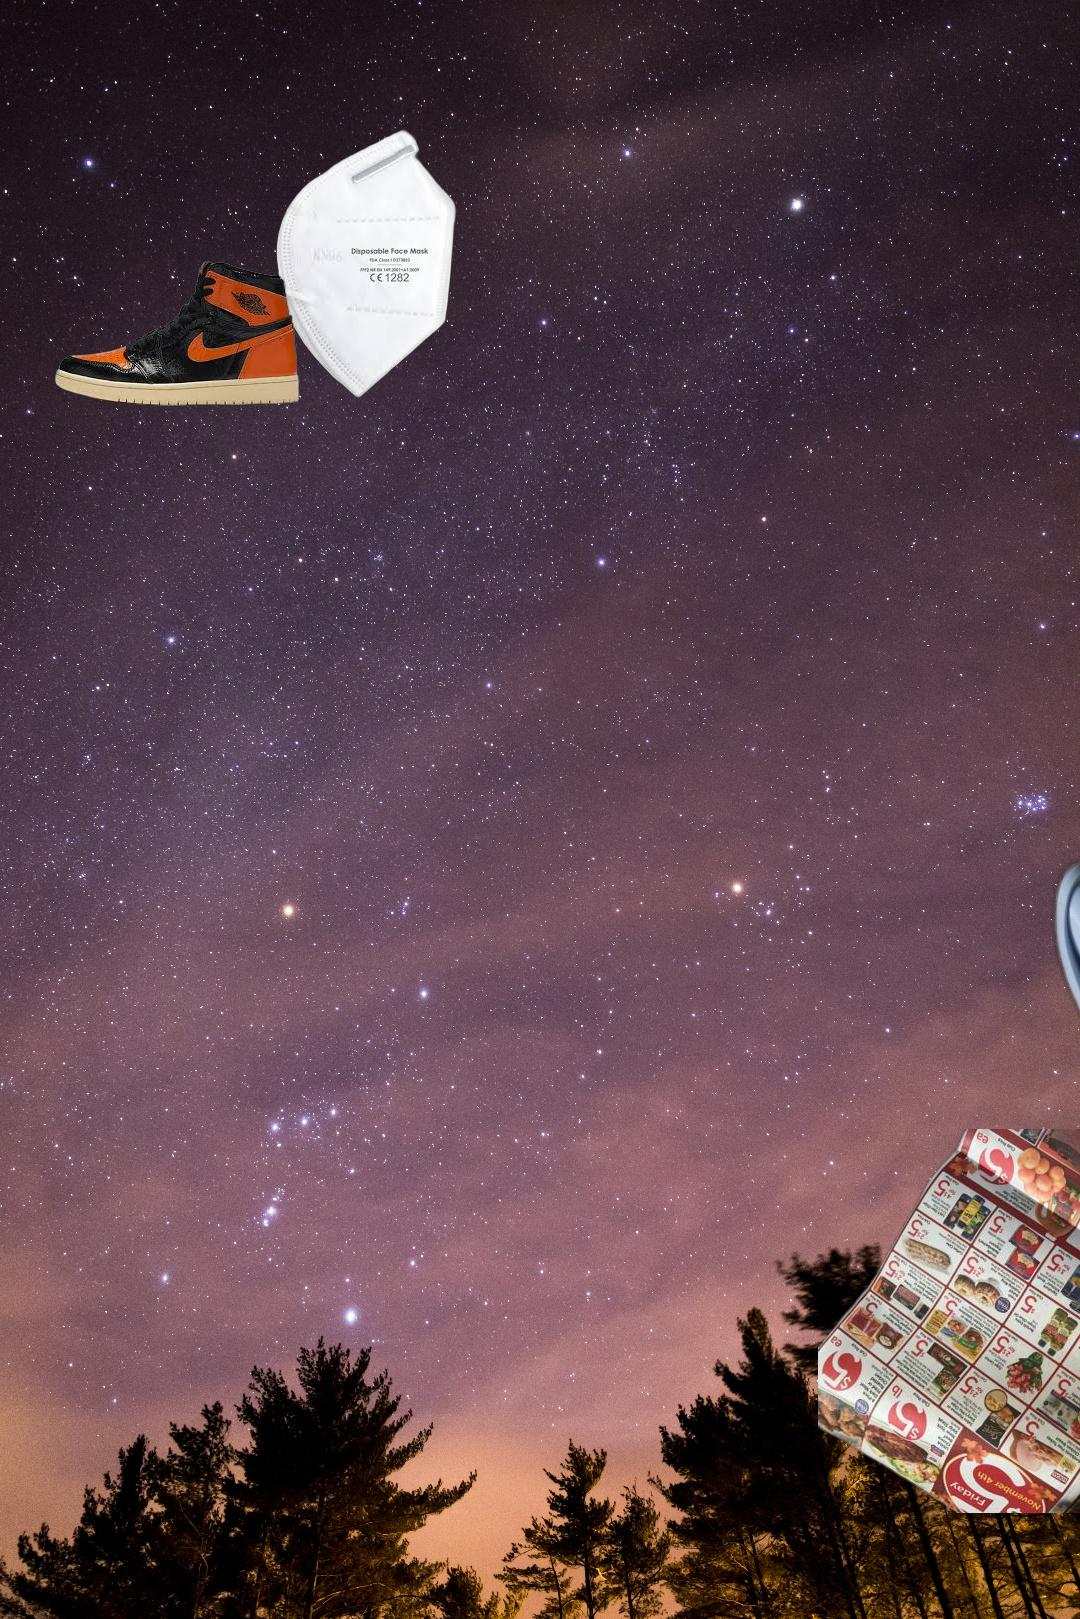paper: (818, 1130, 1080, 1513)
penholder: (1046, 778, 1080, 1619)
shoes: (46, 258, 303, 433)
trash: (271, 128, 457, 398)
